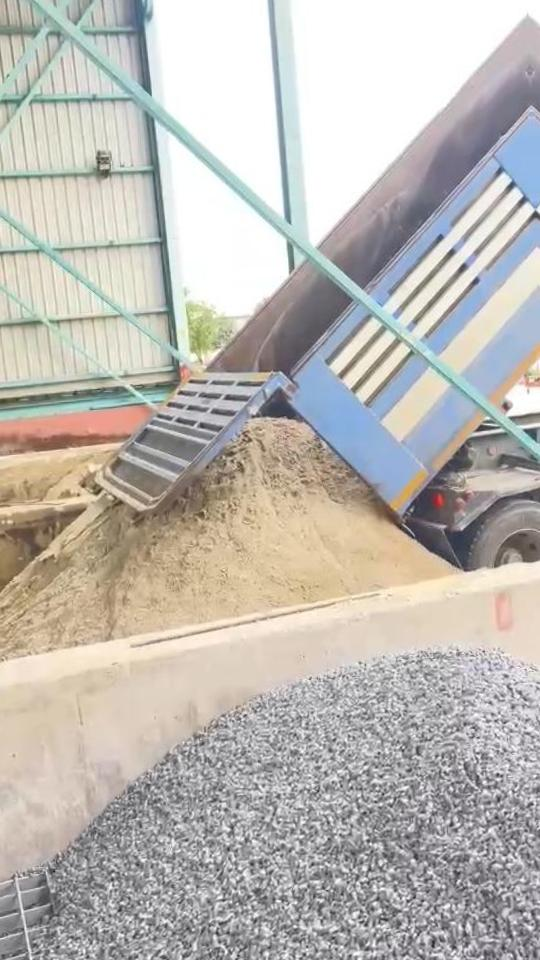gravel: (22, 649, 540, 960)
sand: (0, 420, 451, 669), (45, 461, 99, 499)
